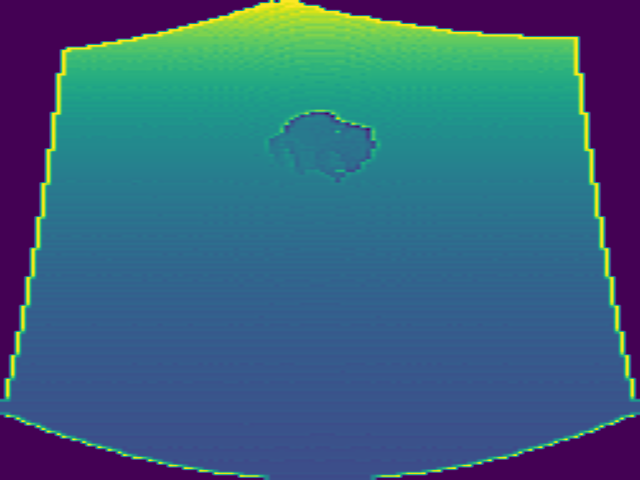car_0027: (266, 111, 376, 179)
